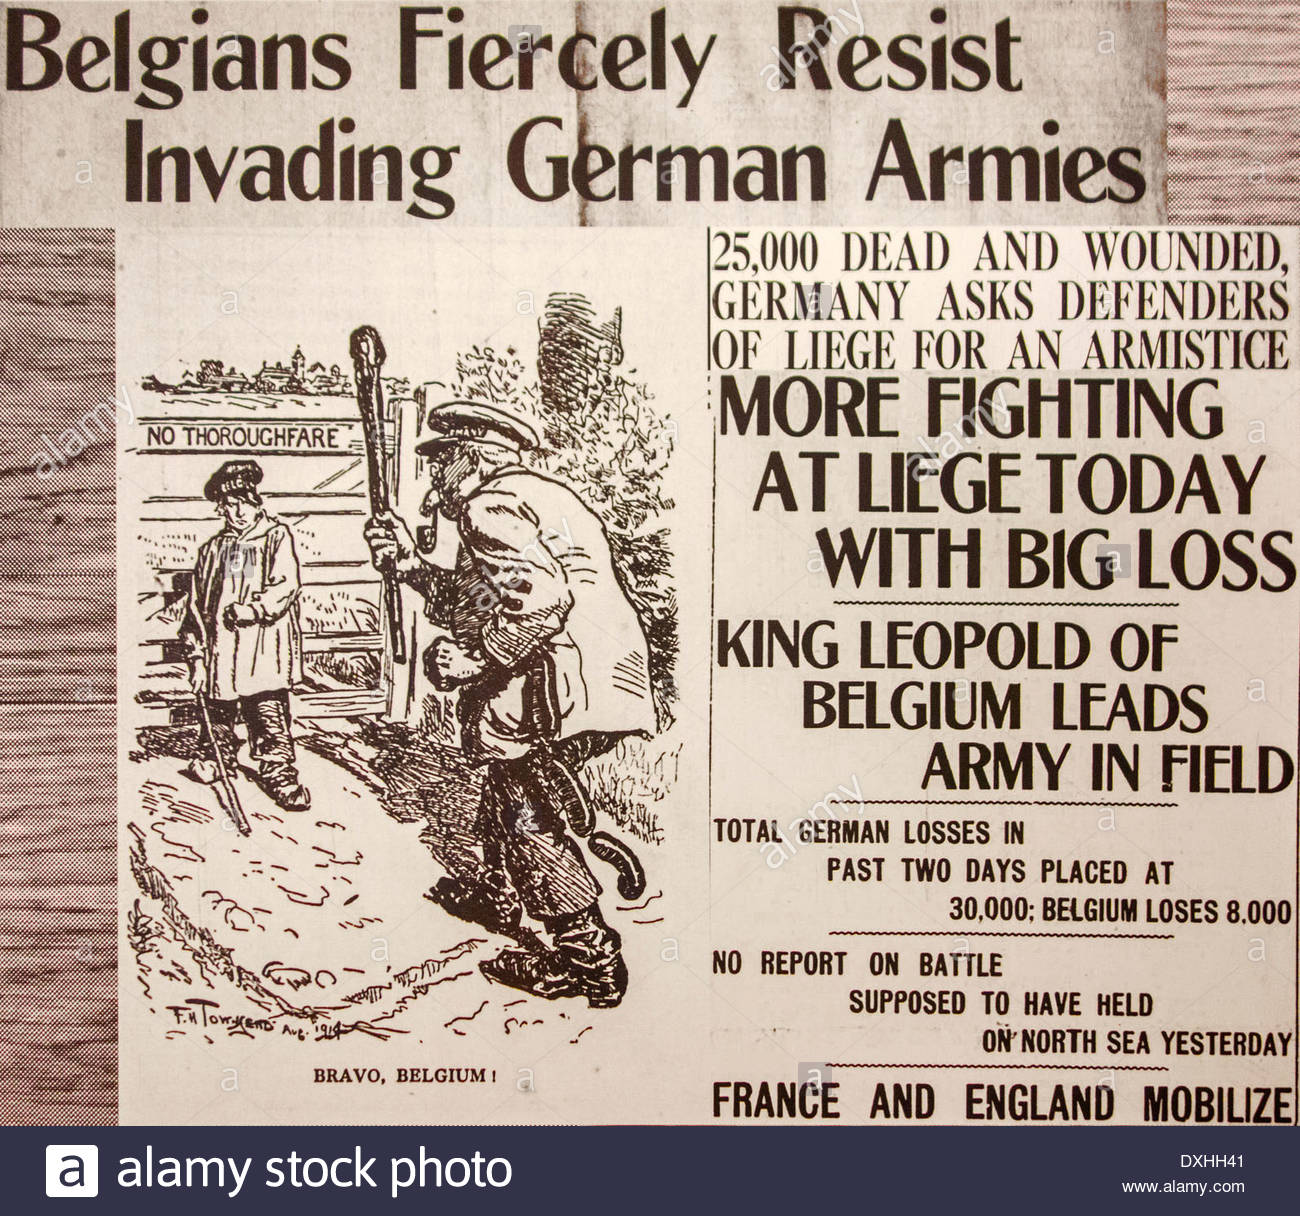latin: (2, 6, 1149, 210), (717, 373, 1297, 595), (715, 613, 1295, 795), (711, 227, 1291, 375), (711, 943, 1294, 1061), (713, 814, 1291, 923), (712, 1078, 1294, 1127), (117, 1141, 517, 1195), (1120, 1150, 1247, 1199), (145, 425, 340, 449), (310, 1065, 487, 1083)
